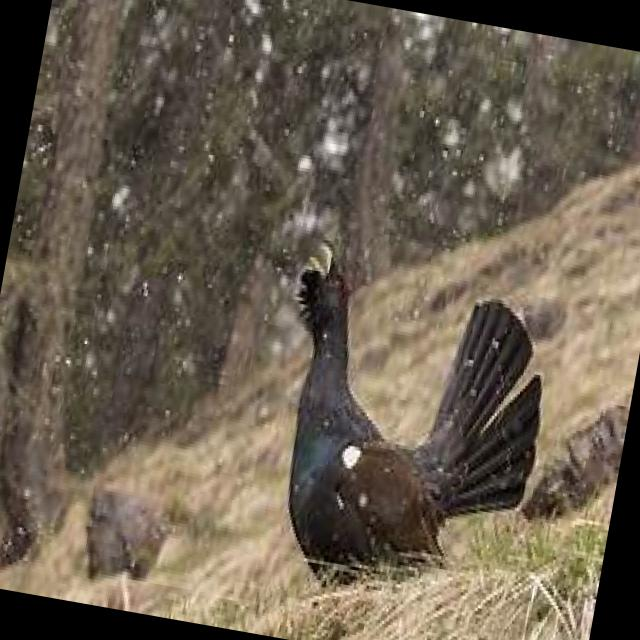chicken: (246, 233, 570, 617)
